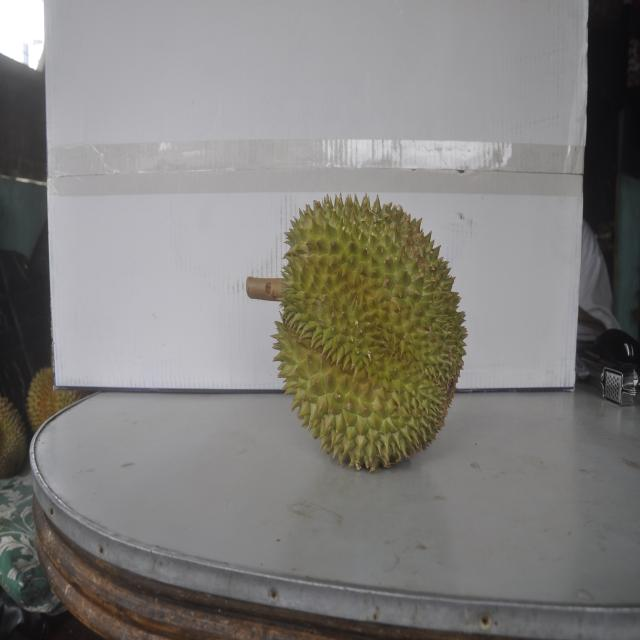mature: (268, 190, 463, 474), (25, 366, 80, 435), (0, 393, 29, 476)
